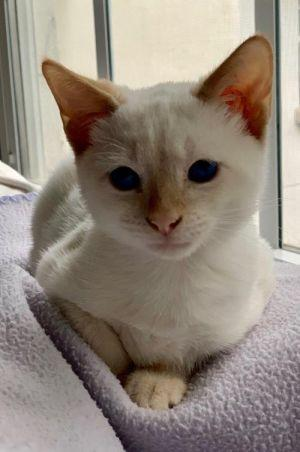siamese: (40, 35, 289, 270)
